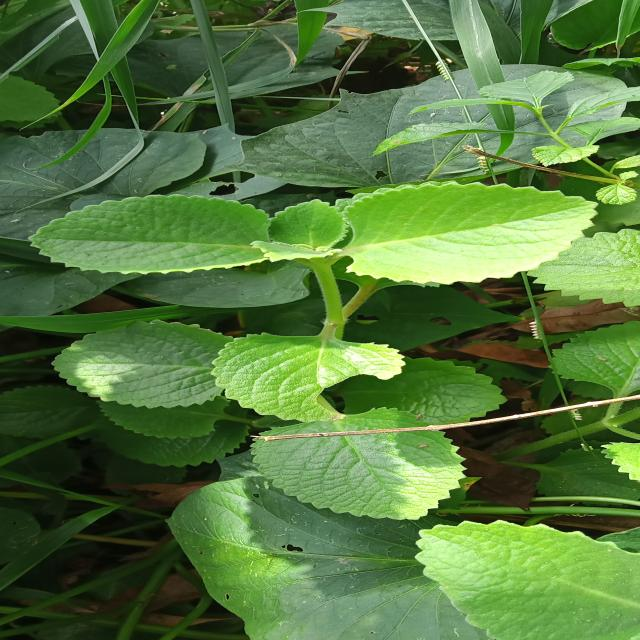Oregano: (80, 317, 503, 526), (32, 180, 640, 295)
